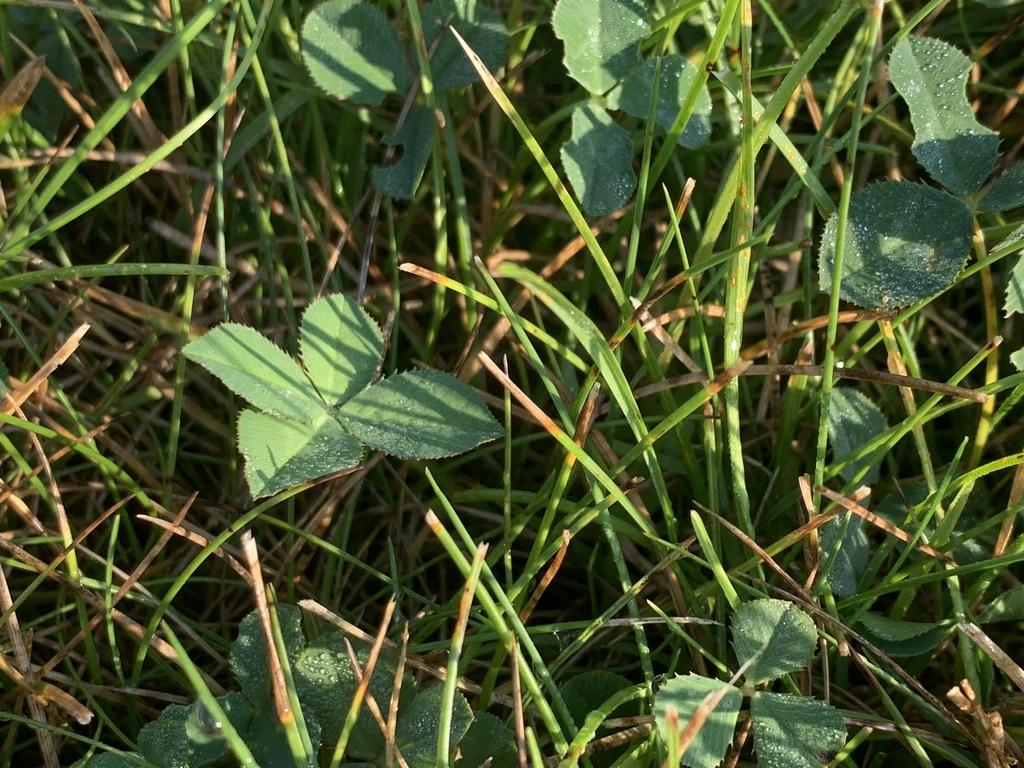4-Leaf-Clovers: (384, 386, 665, 620)
